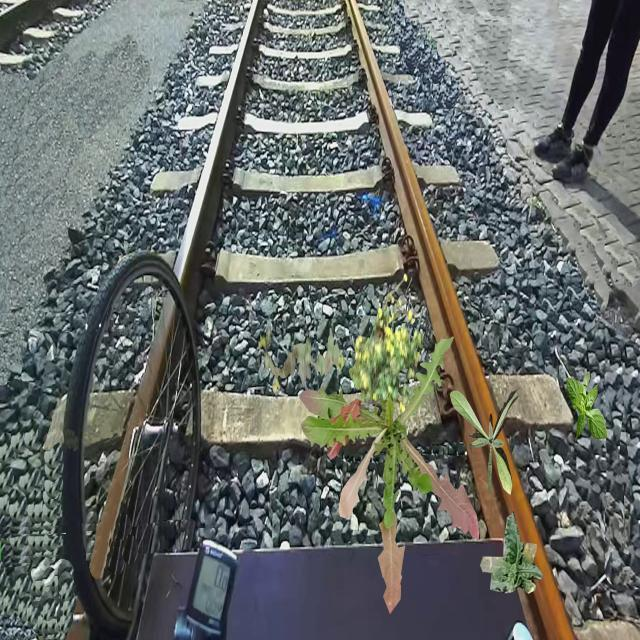Plant: (300, 337, 480, 615), (349, 273, 424, 413), (450, 388, 522, 496), (258, 325, 344, 393), (480, 511, 544, 594), (566, 371, 608, 442)
